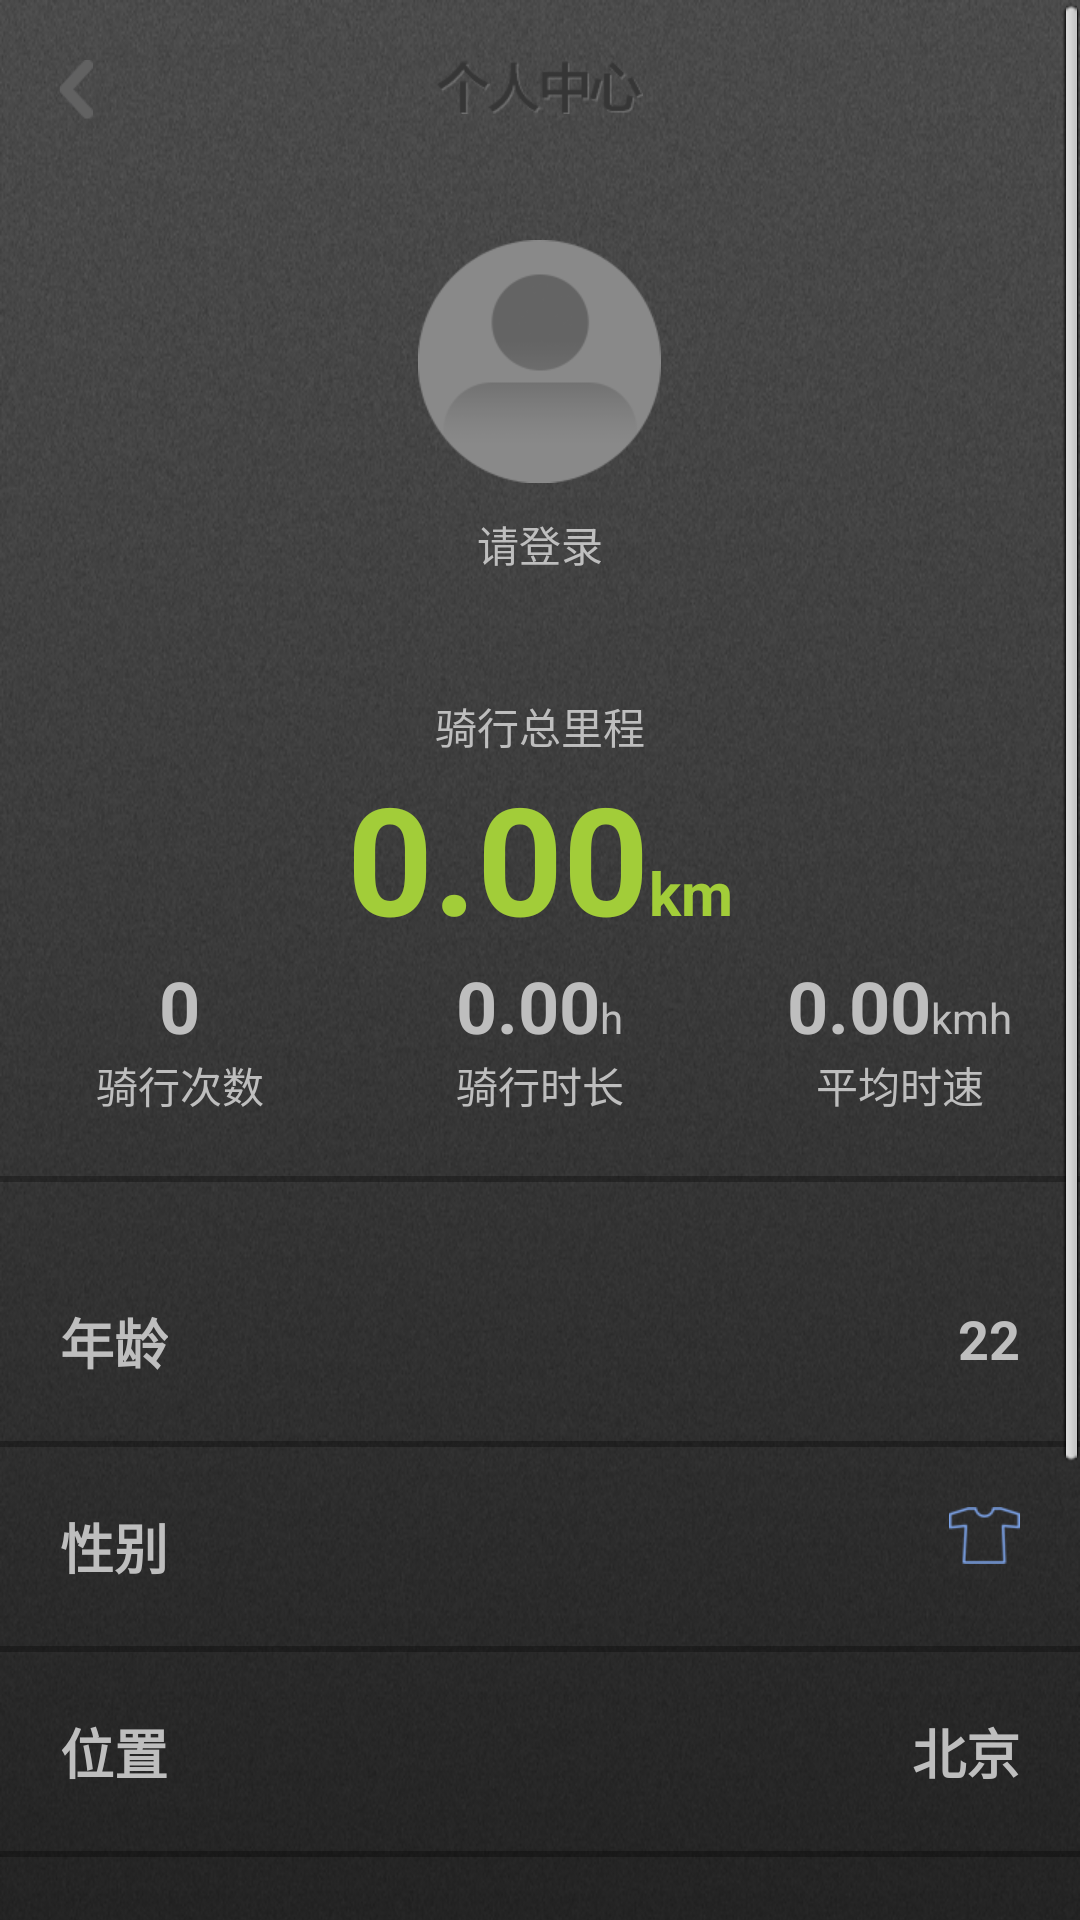

Where to tap for icons on this 1080w x 1920h app screen, as point (x, y):
head emote: point (539, 361)
